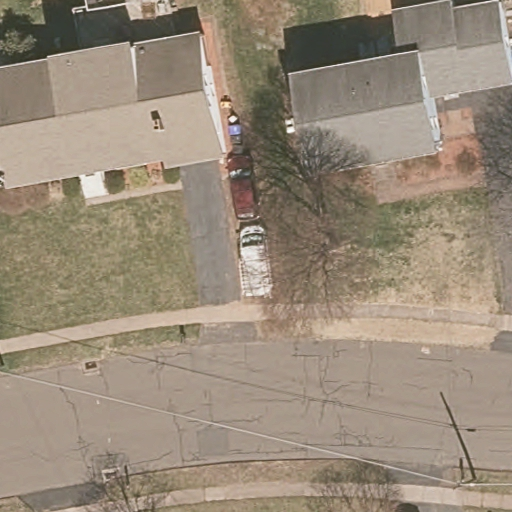DT: (452, 475, 489, 492)
